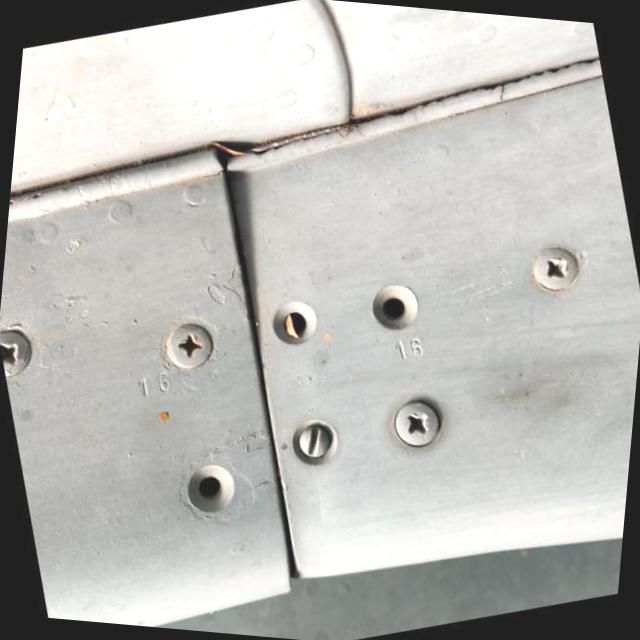Missing Fastener: (174, 449, 254, 528), (367, 278, 428, 338)
